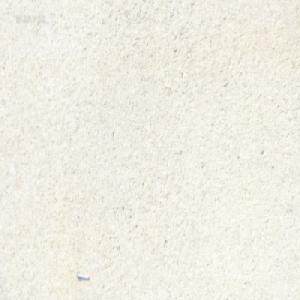Nail: (75, 271, 90, 280)
